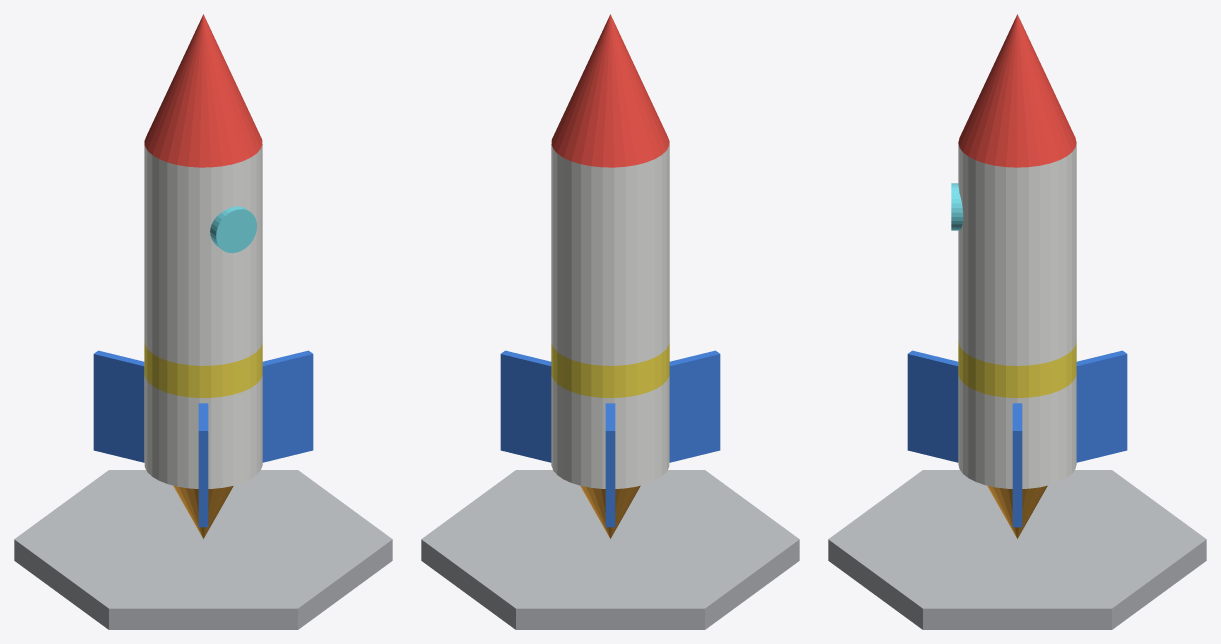
Rendered from rocket_from_openshape3d.glb.
The picture shows the model from 3 angles, left to right: view 1: azimuth 30°, elevation 25°; view 2: azimuth 150°, elevation 25°; view 3: azimuth 270°, elevation 25°; orthographic projection.
Parts seen in each view (by area): view 1: Launch pad, Hull 1, Fins, Nose cone, Hull 2, Window, Flame; view 2: Launch pad, Hull 1, Fins, Nose cone, Hull 2, Flame; view 3: Launch pad, Hull 1, Fins, Nose cone, Hull 2, Flame.
Part boxes in pixels (x1,y1,x2,y2): Launch pad: (14,470,392,629); Hull 1: (144,141,262,488); Fins: (93,350,313,527); Nose cone: (144,14,262,167); Hull 2: (144,340,262,397); Window: (210,206,256,253); Flame: (173,485,233,538); Launch pad: (421,470,799,629); Hull 1: (551,141,669,488); Fins: (500,350,720,527); Nose cone: (551,14,669,167); Hull 2: (551,340,669,397); Flame: (580,485,640,538); Launch pad: (828,470,1206,629); Hull 1: (958,143,1076,488); Fins: (907,350,1127,527); Nose cone: (958,14,1076,167); Hull 2: (958,342,1076,397); Flame: (987,485,1047,538).
Bounding box in the file's own units: 2771 × 5100 × 3200.
